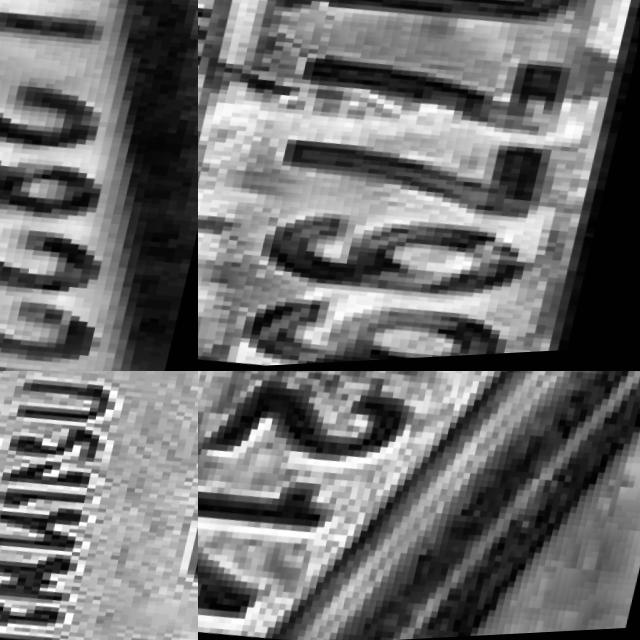license-plate: (198, 0, 640, 371), (198, 371, 640, 640), (0, 0, 198, 371), (0, 371, 198, 640)
